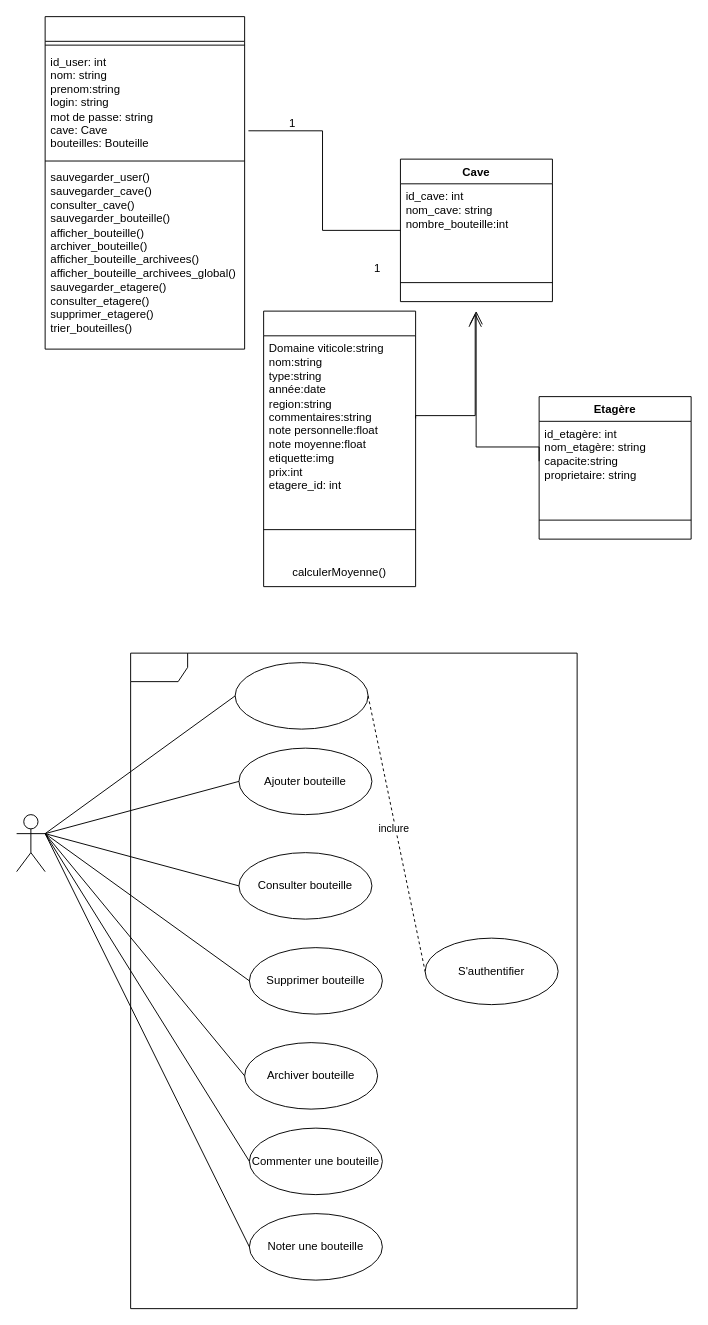
The diagram is 708 pixels wide and 1325 high, and some of its shapes have lost their labels. Each missing label, with the box of its shape:
Bouteille: (263, 310, 416, 587)
Cave à vin: (130, 652, 577, 1309)
Creer_cave: (234, 662, 368, 729)
User: (16, 814, 45, 872)
Utilisateur: (44, 16, 245, 349)
